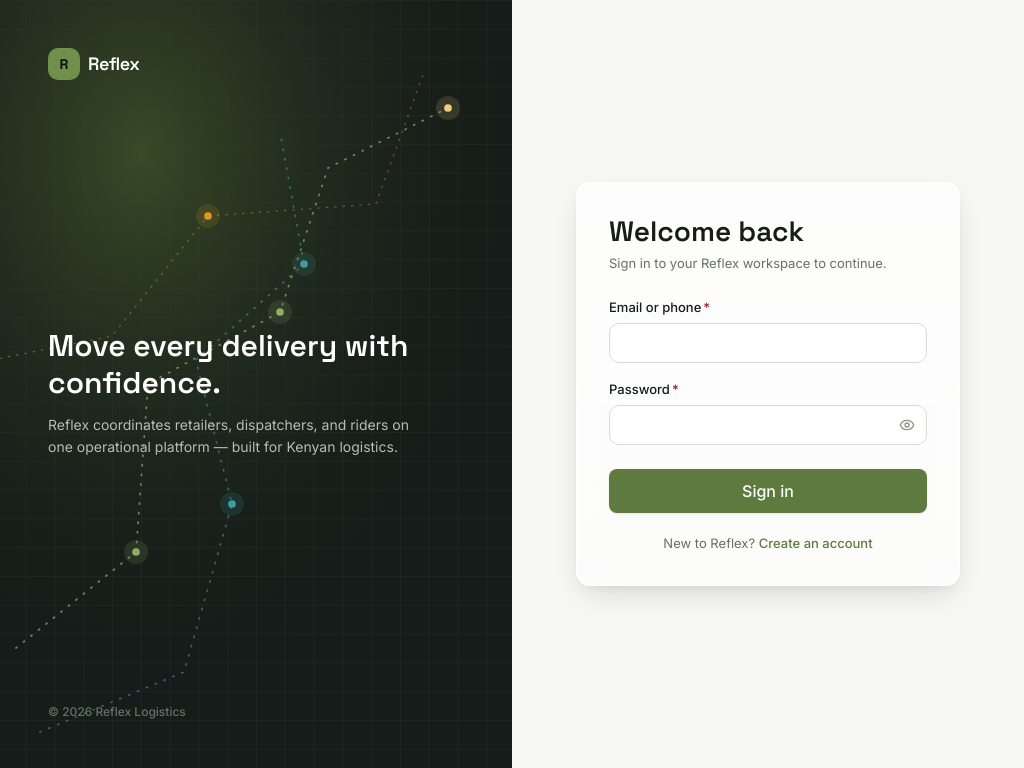
LoginPage › maps a 401 to plain-language 'incorrect' copy, never a raw status code
Expected: the heading "Welcome back" is shown, [609,213,804,249]
In the field labelled "Email or phone*": (768, 343) [609,323,927,363], type "amina@example.com"
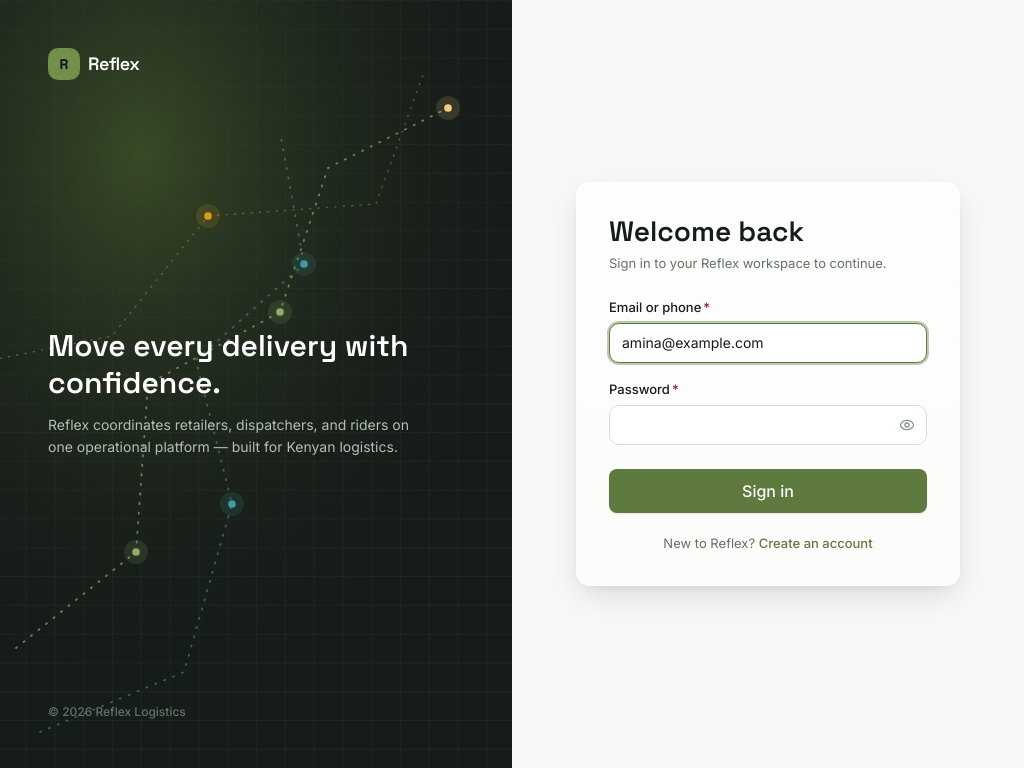
In the password field labelled "Password*": (768, 425) [609,405,927,445], type "wrong-password"
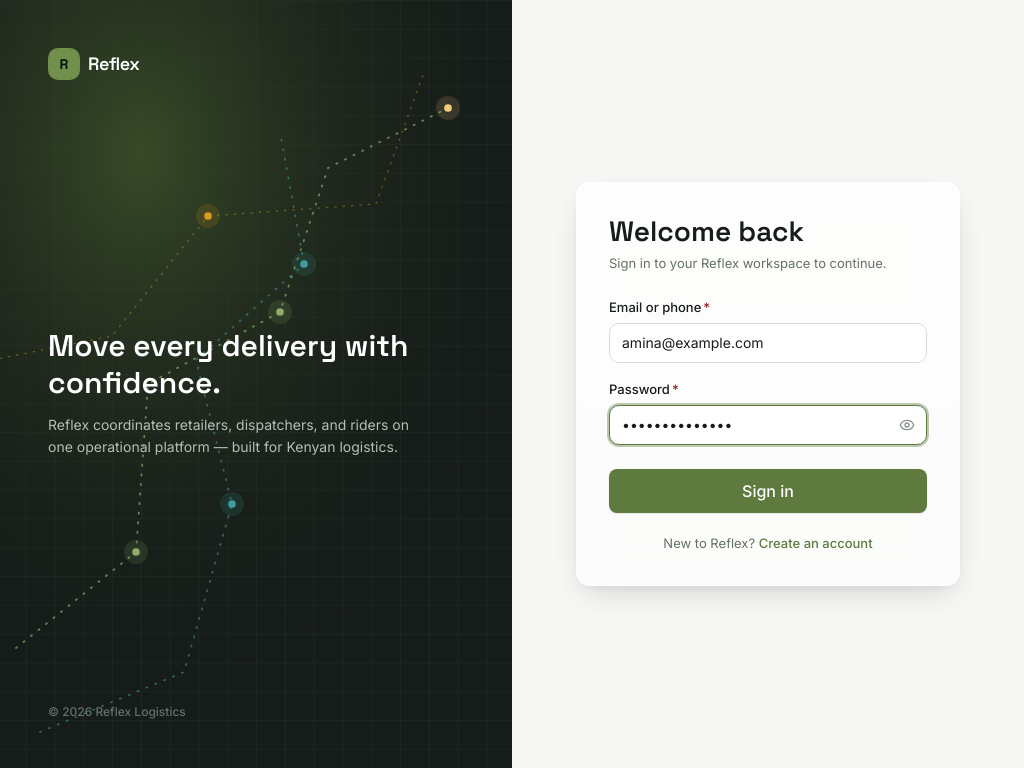
Click the button "Sign in": (768, 491) [609,469,927,513]
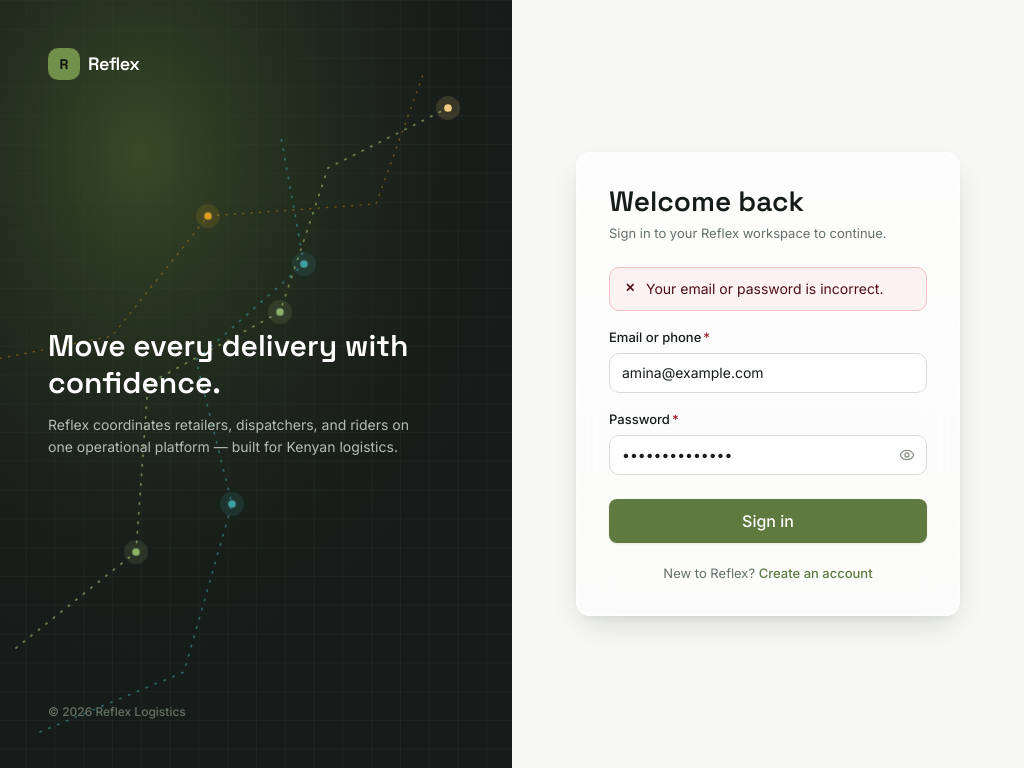
Now the text "Your email or password is incorrect." is shown, box [646,278,884,300]
